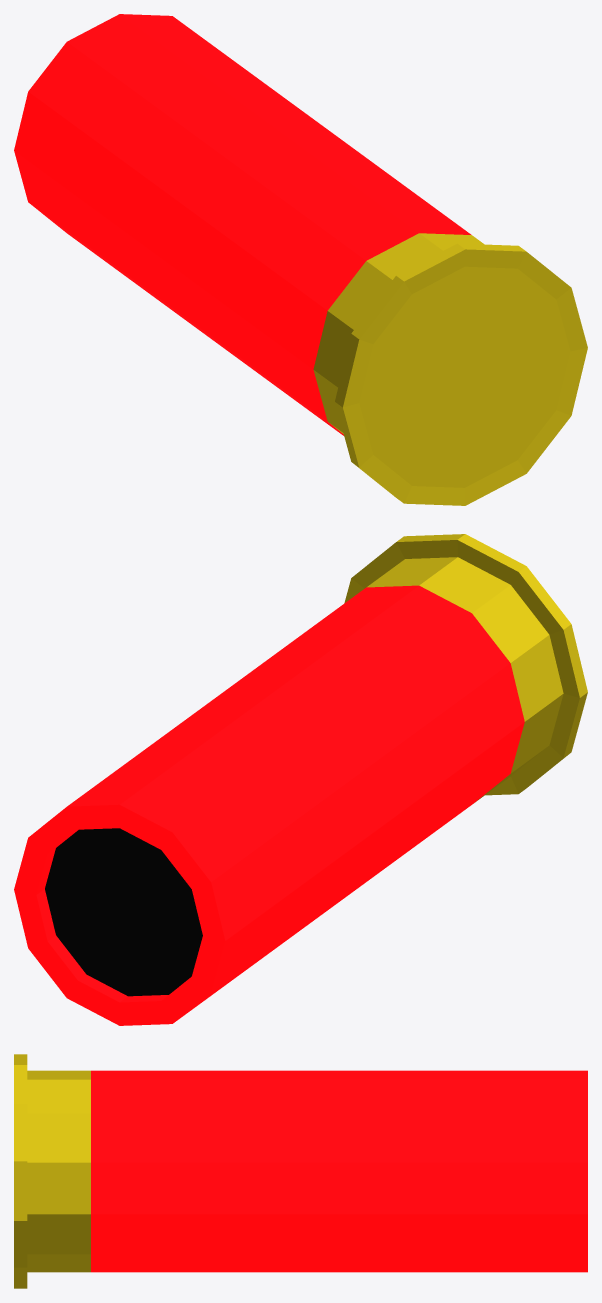
The model's file is ShotgunSlug.glb.
The picture shows the model from 3 angles, top to bottom: view 1: azimuth 30°, elevation 25°; view 2: azimuth 150°, elevation 25°; view 3: azimuth 270°, elevation 25°; orthographic projection. The views are drawn at different scales.
Parts seen in each view (by area): view 1: ShotgunSlug; view 2: ShotgunSlug; view 3: ShotgunSlug.
Part boxes in pixels (left/top/right/bottom): ShotgunSlug: left=14, top=14, right=587, bottom=505; ShotgunSlug: left=14, top=534, right=587, bottom=1025; ShotgunSlug: left=14, top=1054, right=587, bottom=1288.
Bounding box in the file's own units: 0.0154 × 0.0154 × 0.0375.
